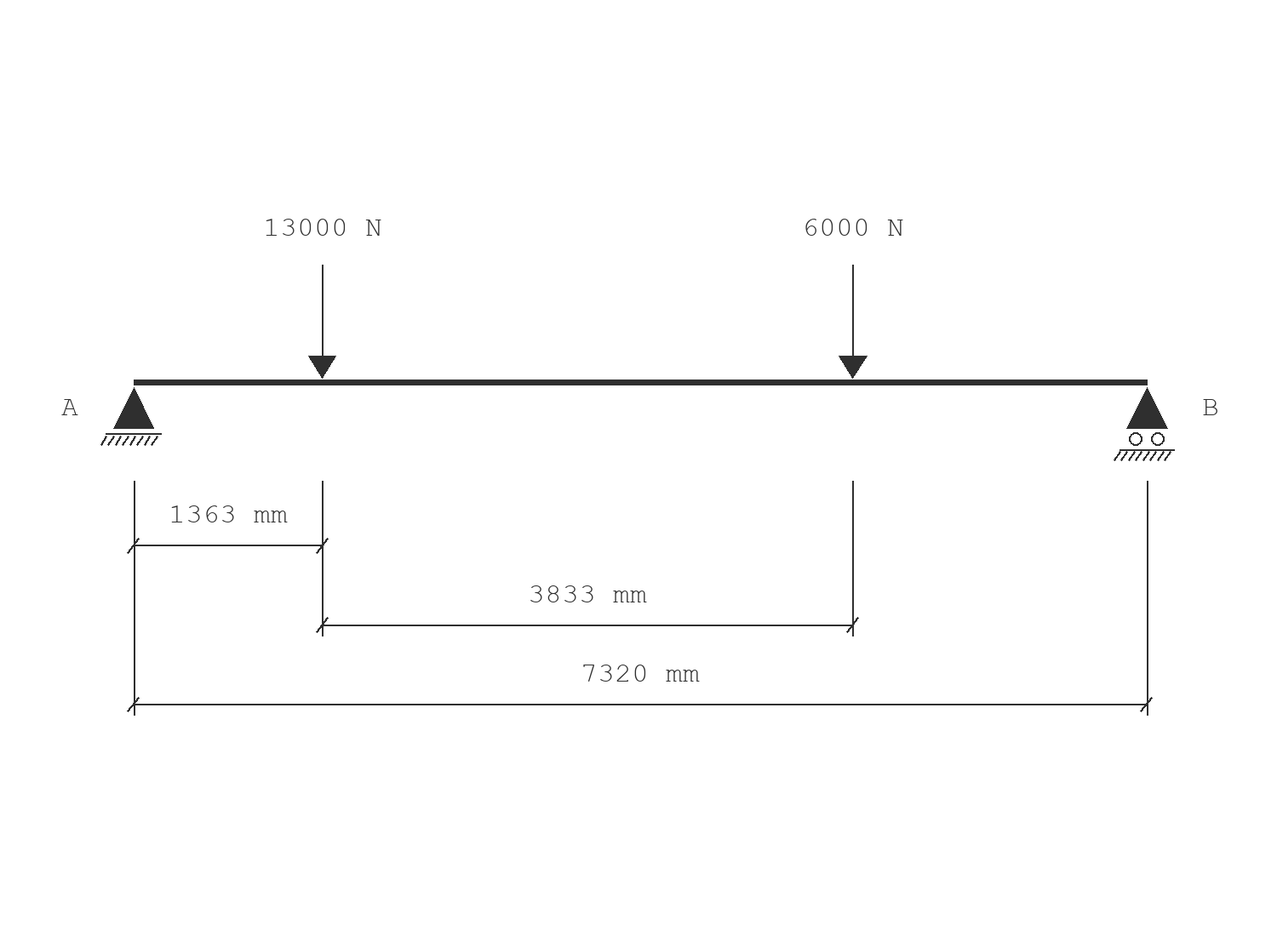pin_support: (100, 387, 162, 446)
point_load: (839, 265, 868, 379), (308, 265, 336, 379)
roller_support: (1114, 387, 1175, 461)
